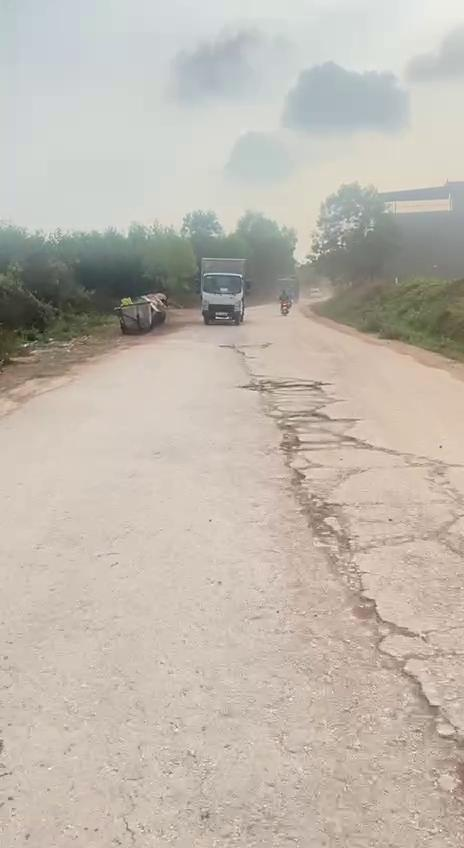pothole: (294, 482, 354, 558), (272, 410, 304, 463), (237, 378, 324, 394)
